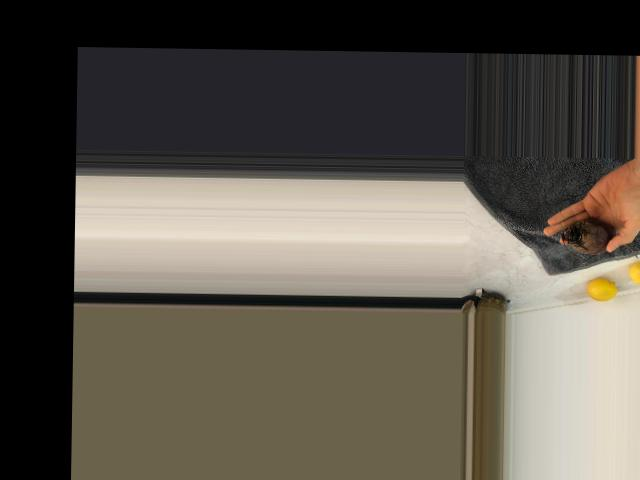beet: (561, 217, 638, 258)
